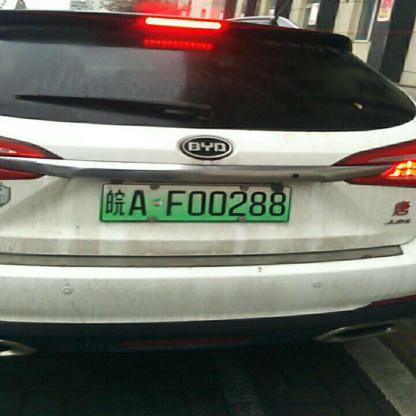lp: (100, 183, 289, 219)
